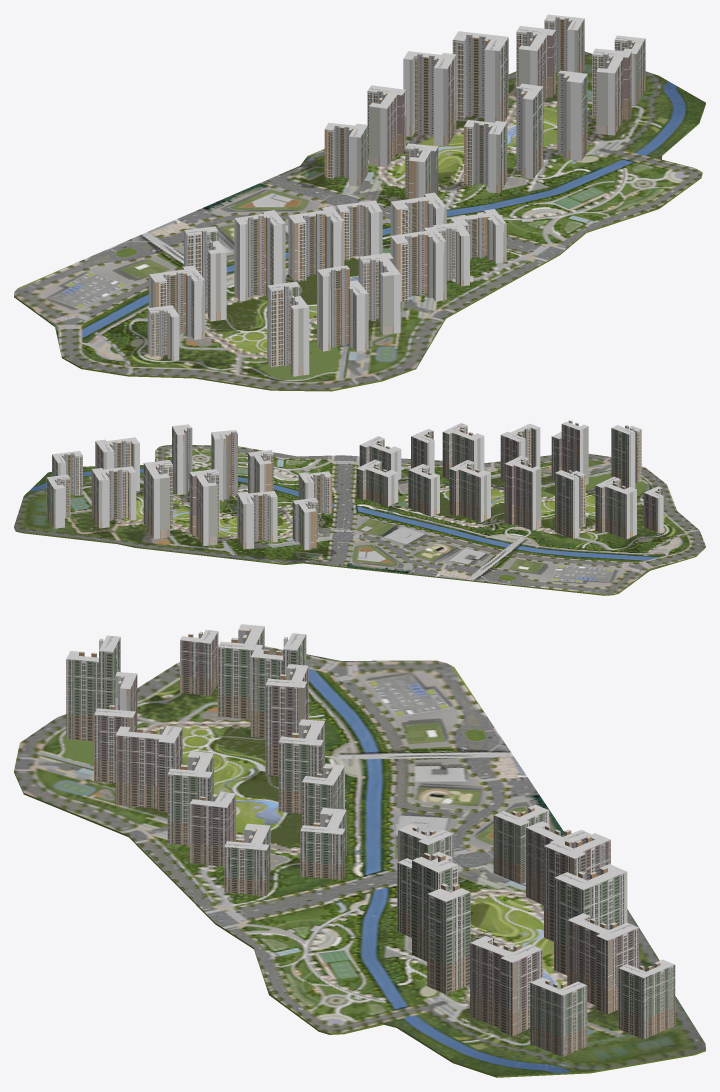
The model's file is ICJ00106_E.glb.
The picture shows the model from 3 angles, top to bottom: view 1: azimuth 30°, elevation 25°; view 2: azimuth 150°, elevation 25°; view 3: azimuth 270°, elevation 25°; orthographic projection. The views are drawn at different scales.
Visible parts, largest first — view 1: MainBuilding; view 2: MainBuilding; view 3: MainBuilding.
Boxes of the visible parts, x1,y1,x2,y2 form: MainBuilding: (14, 14, 705, 391); MainBuilding: (14, 420, 705, 595); MainBuilding: (14, 624, 705, 1077).
Bounding box in the file's own units: 31133 × 3387 × 21139.
1 material, 1 textured.
